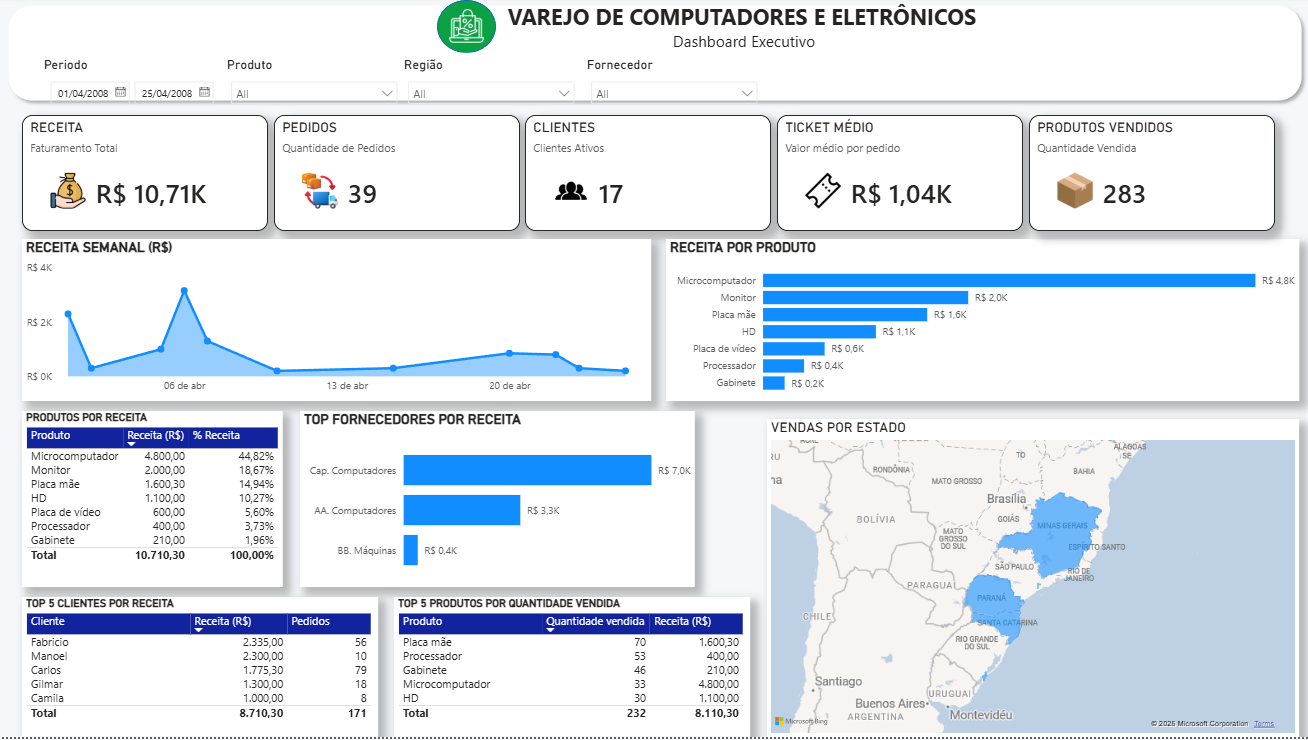

The dashboard page shown, as its layout file describes it:
{"tool":"powerbi","page":{"name":"Page 1","canvas":[1600,900],"ordinal":0},"visuals":[{"type":"shape","box":[9.7,1.2,1590.3,133.7],"z":0},{"type":"shape","box":[539.8,3.6,71.7,64.4],"z":1000},{"type":"image","box":[544.7,14.6,62,41.3],"z":2000},{"type":"textbox","box":[614,0,593.3,83.9],"z":3000},{"type":"slicer","title":"Periodo","fields":{"Values":["public pedido.data_pedido"]},"box":[57.1,72.9,222.5,59.6],"z":4000},{"type":"slicer","title":"Produto","fields":{"Values":["public produto.nome"]},"box":[279.6,72.9,222.5,69.3],"z":5000},{"type":"slicer","title":"Região","fields":{"Values":["public uf.Região"]},"box":[494.8,72.9,222.5,69.3],"z":6000},{"type":"slicer","title":"Fornecedor","fields":{"Values":["public fornecedor.nome"]},"box":[717.3,72.9,222.5,69.3],"z":7000},{"type":"cardVisual","title":"RECEITA","fields":{"Data":["public pedido_produto.Valor Total Vendido"]},"box":[35.3,143.5,299.1,141],"z":8000},{"type":"cardVisual","title":"PEDIDOS","fields":{"Data":["Sum(public pedido_produto.quantidade)"]},"box":[341.6,143.5,299.1,141],"z":9000},{"type":"cardVisual","title":"CLIENTES","fields":{"Data":["CountNonNull(public cliente.idcliente)"]},"box":[647,143.5,299.1,141],"z":10000},{"type":"cardVisual","title":"TICKET MÉDIO","fields":{"Data":["public pedido_produto.Ticket médio"]},"box":[953,143.5,299.1,141],"z":11000},{"type":"lineChart","title":"RECEITA SEMANAL (R$)","fields":{"Y":["public pedido_produto.Valor Total Vendido"],"Category":["public pedido.data_pedido"]},"box":[35.3,294.2,764.7,197],"z":12000},{"type":"barChart","title":"RECEITA POR PRODUTO","fields":{"Y":["public pedido_produto.Valor Total Vendido"],"Category":["public produto.nome"]},"box":[818.2,294.2,769.6,197],"z":13000},{"type":"tableEx","title":"PRODUTOS POR RECEITA","fields":{"Values":["public produto.nome","public pedido_produto.Valor Total Vendido","Divide(public pedido_produto.Valor Total Vendido, ScopedEval(public pedido_produto.Valor Total Vendido, []))"]},"box":[35.3,503.3,317.3,214],"z":14000},{"type":"barChart","title":"TOP FORNECEDORES POR RECEITA","fields":{"Y":["public pedido_produto.Valor Total Vendido"],"Category":["public fornecedor.nome"]},"box":[373.3,503.3,480.2,214],"z":15000},{"type":"filledMap","title":"VENDAS POR ESTADO","fields":{"Category":["public uf.nome"]},"box":[941,513.1,646.8,386.6],"z":16000},{"type":"tableEx","title":"TOP 5 CLIENTES POR RECEITA","fields":{"Values":["public cliente.nome","public pedido_produto.Valor Total Vendido","public pedido_produto.Quantidade de pedidos"]},"box":[35.3,729.5,432.8,170.2],"z":17000},{"type":"tableEx","title":"TOP 5 PRODUTOS POR QUANTIDADE VENDIDA","fields":{"Values":["public produto.nome","public pedido_produto.Quantidade de pedidos","public pedido_produto.Valor Total Vendido"]},"box":[487.5,729.5,432.8,170.2],"z":18000},{"type":"cardVisual","title":"PRODUTOS VENDIDOS","fields":{"Data":["public pedido_produto.Quantidade de pedidos"]},"box":[1259,143.5,299.1,141],"z":18001}]}

Visuals, with their boxes in screenshot pixels (x1, y1, x2, y2), scaled from the page's 1600x900 canvas onto the 1308x740 screenshot:
shape: detection(8, 1, 1307, 111)
shape: detection(441, 3, 500, 56)
image: detection(445, 12, 496, 46)
textbox: detection(502, 0, 987, 69)
"Periodo" slicer: detection(47, 60, 229, 109)
"Produto" slicer: detection(229, 60, 410, 117)
"Região" slicer: detection(404, 60, 586, 117)
"Fornecedor" slicer: detection(586, 60, 768, 117)
"RECEITA" cardVisual: detection(29, 118, 273, 234)
"PEDIDOS" cardVisual: detection(279, 118, 524, 234)
"CLIENTES" cardVisual: detection(529, 118, 773, 234)
"TICKET MÉDIO" cardVisual: detection(779, 118, 1024, 234)
"RECEITA SEMANAL (R$)" lineChart: detection(29, 242, 654, 404)
"RECEITA POR PRODUTO" barChart: detection(669, 242, 1298, 404)
"PRODUTOS POR RECEITA" tableEx: detection(29, 414, 288, 590)
"TOP FORNECEDORES POR RECEITA" barChart: detection(305, 414, 698, 590)
"VENDAS POR ESTADO" filledMap: detection(769, 422, 1298, 739)
"TOP 5 CLIENTES POR RECEITA" tableEx: detection(29, 600, 383, 739)
"TOP 5 PRODUTOS POR QUANTIDADE VENDIDA" tableEx: detection(399, 600, 752, 739)
"PRODUTOS VENDIDOS" cardVisual: detection(1029, 118, 1274, 234)
